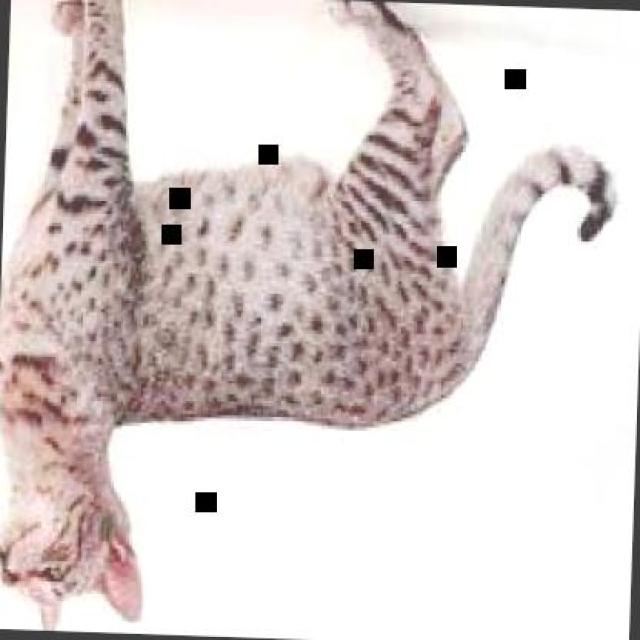cat: (0, 0, 623, 638)
